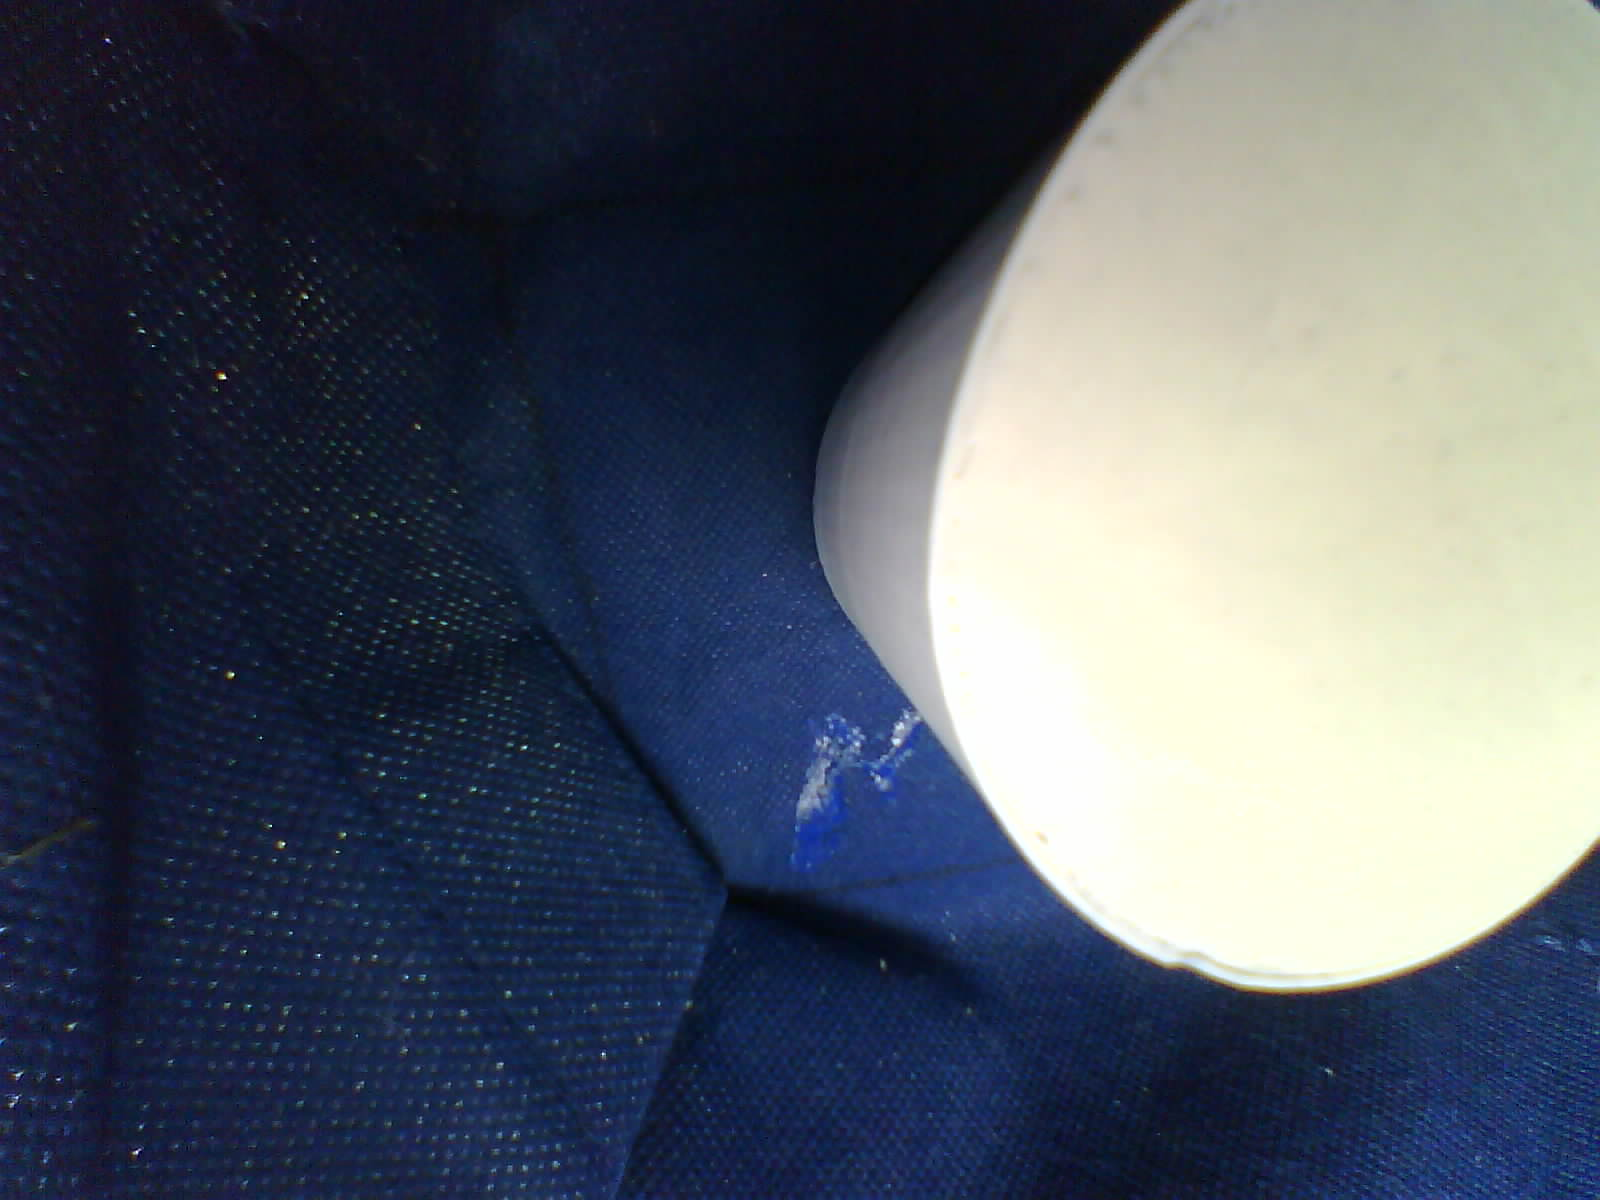cylinder-hard: (789, 0, 1600, 1022)
